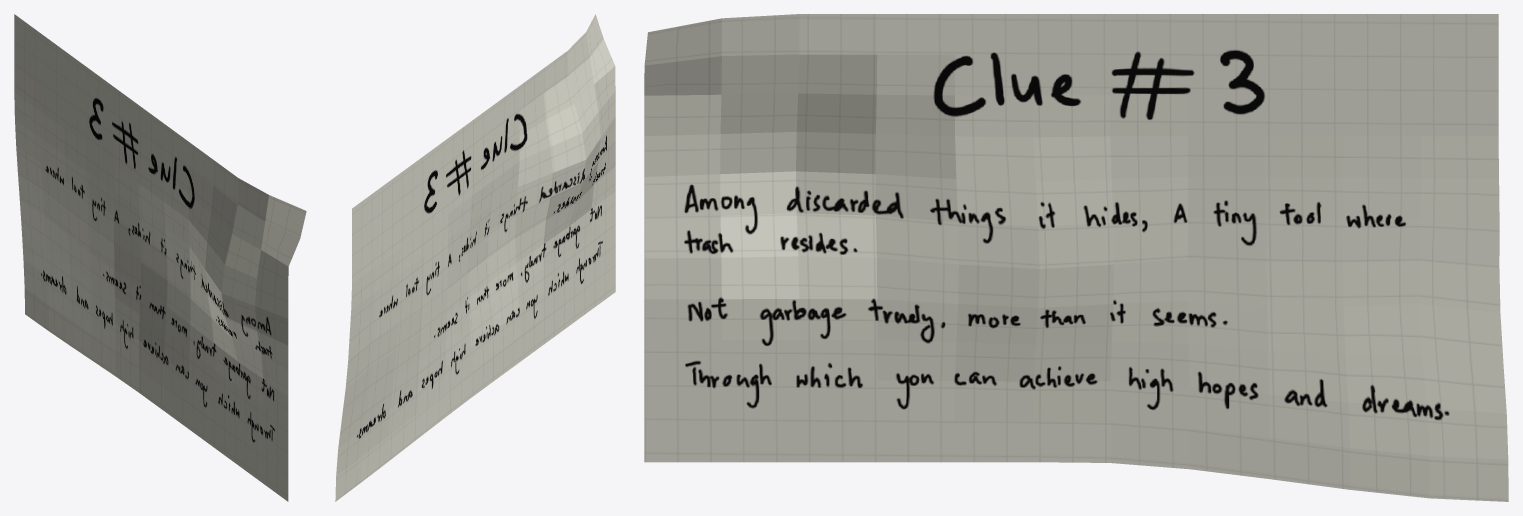
Rendered from Clue3.fbx.
3 views of the same model, side by side, from view 1: azimuth 30°, elevation 25°; view 2: azimuth 150°, elevation 25°; view 3: azimuth 270°, elevation 25° (orthographic). The views are drawn at different scales.
Parts seen in each view (by area): view 1: Paper.002; view 2: Paper.002; view 3: Paper.002.
Part boxes in pixels (x1=…): Paper.002: x1=14, y1=14, x2=306, y2=501; Paper.002: x1=335, y1=14, x2=615, y2=501; Paper.002: x1=644, y1=14, x2=1508, y2=501.
Size of the model in its own units: 36.45 by 283 by 465.
1 material, 1 textured.
